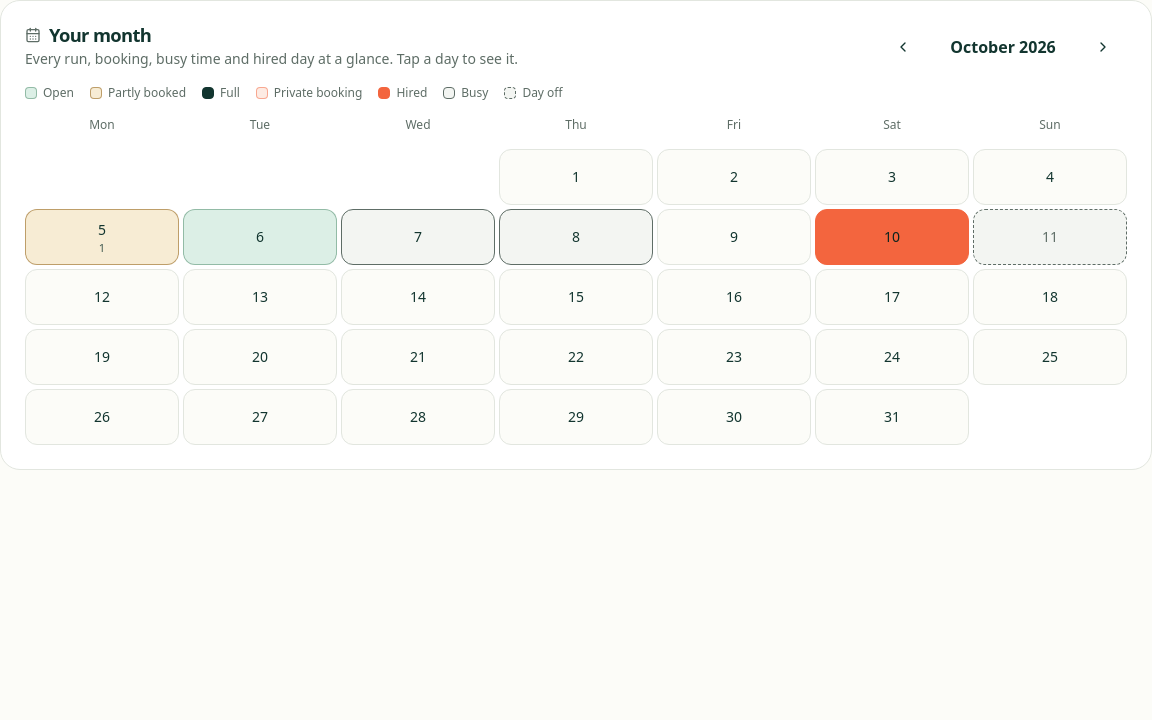
guide workspace screens › shows the month and opens a day with its bookings
Click the button "5 1" at (102, 237), box x1=25 y1=209 x2=179 y2=265
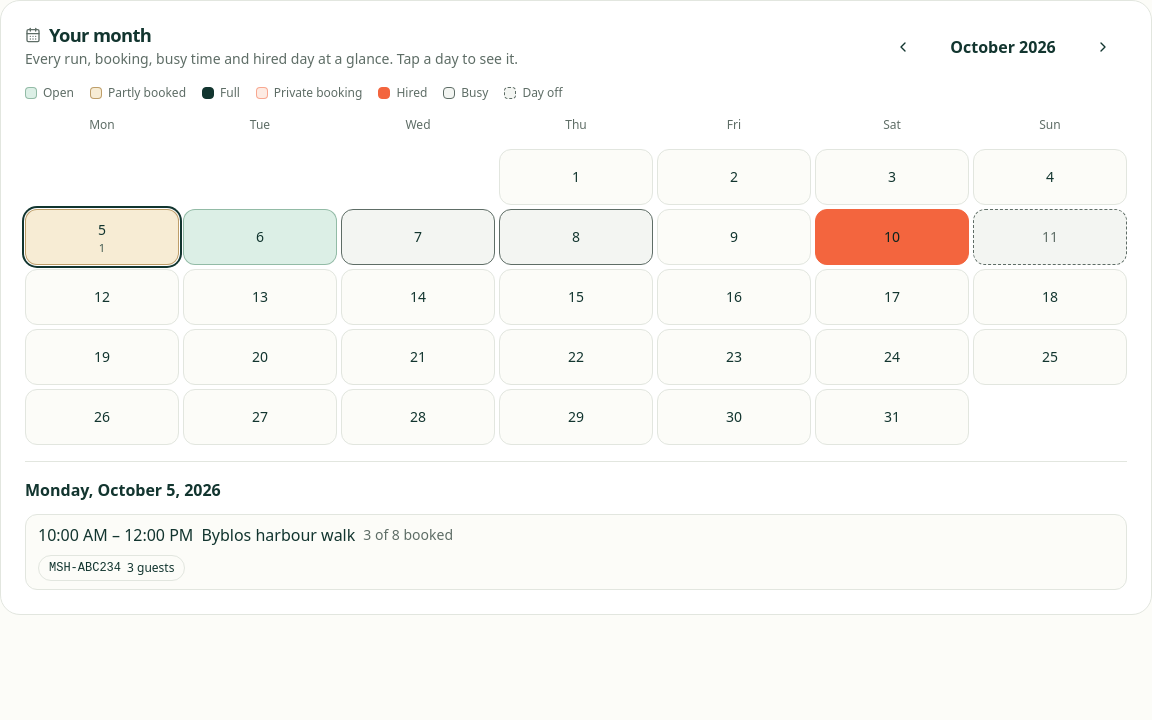
Now the text "MSH-ABC234" is shown, box x1=49 y1=560 x2=121 y2=576
Now the text "3 of 8 booked" is shown, box x1=363 y1=525 x2=453 y2=545
Click the button "7" at (418, 237), box x1=341 y1=209 x2=495 y2=265
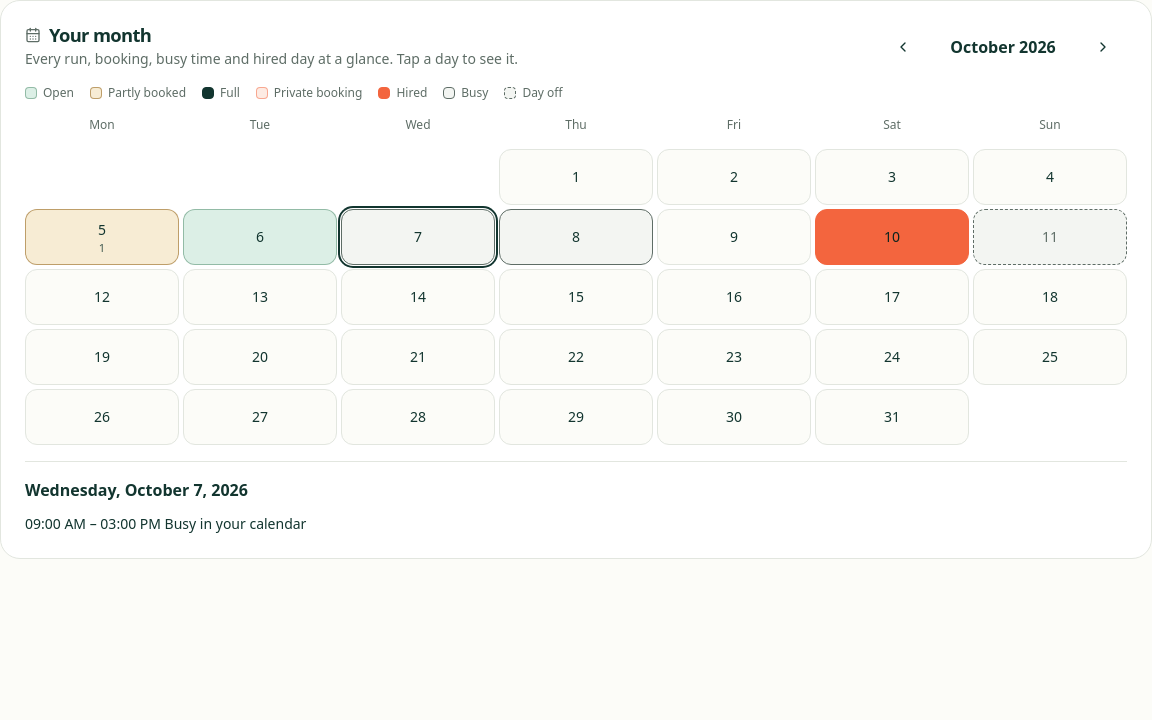
Now the list item "09:00 AM – 03:00 PM Busy in your calendar" is shown, box x1=25 y1=514 x2=306 y2=533
